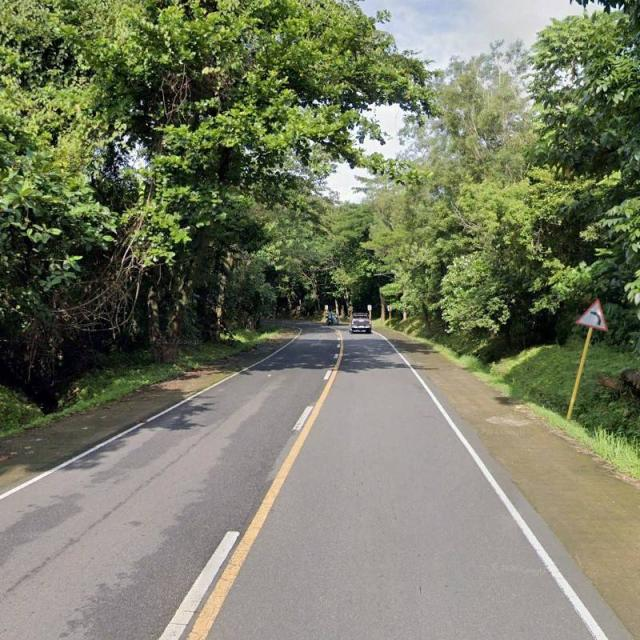warn_left_curve: (576, 300, 608, 332)
